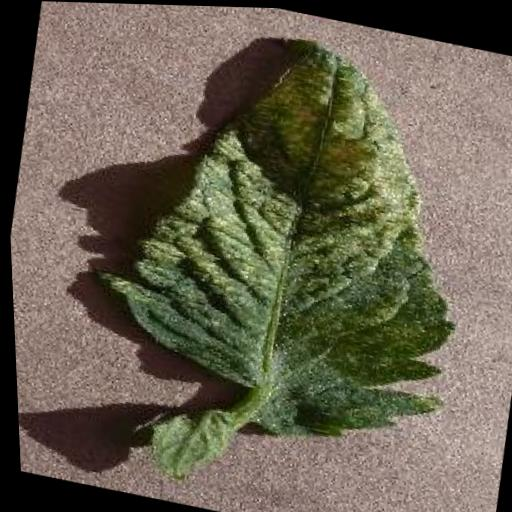Spider Mites: (71, 6, 503, 466)
